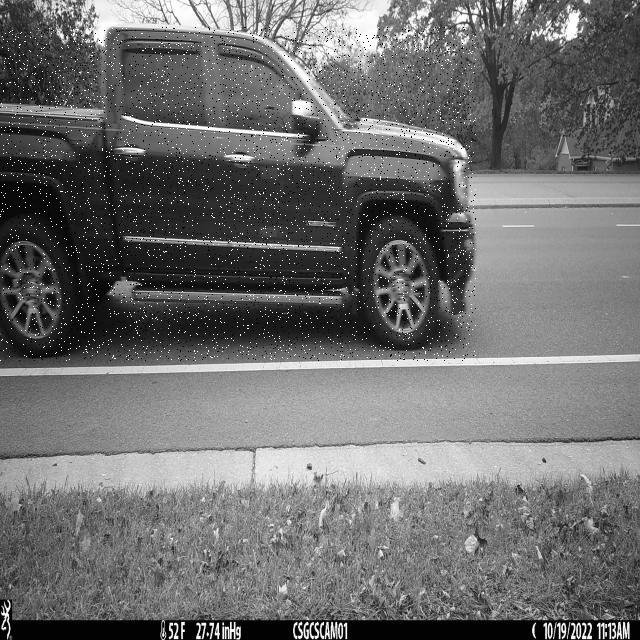Pickup: (0, 27, 476, 361)
